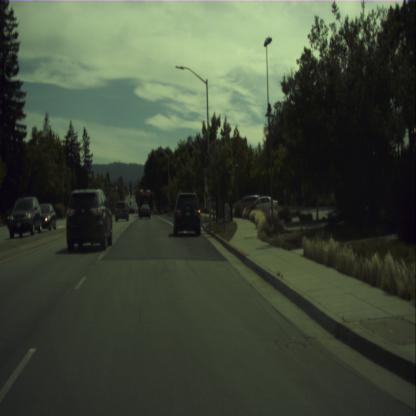Green: (134, 186, 136, 191)
